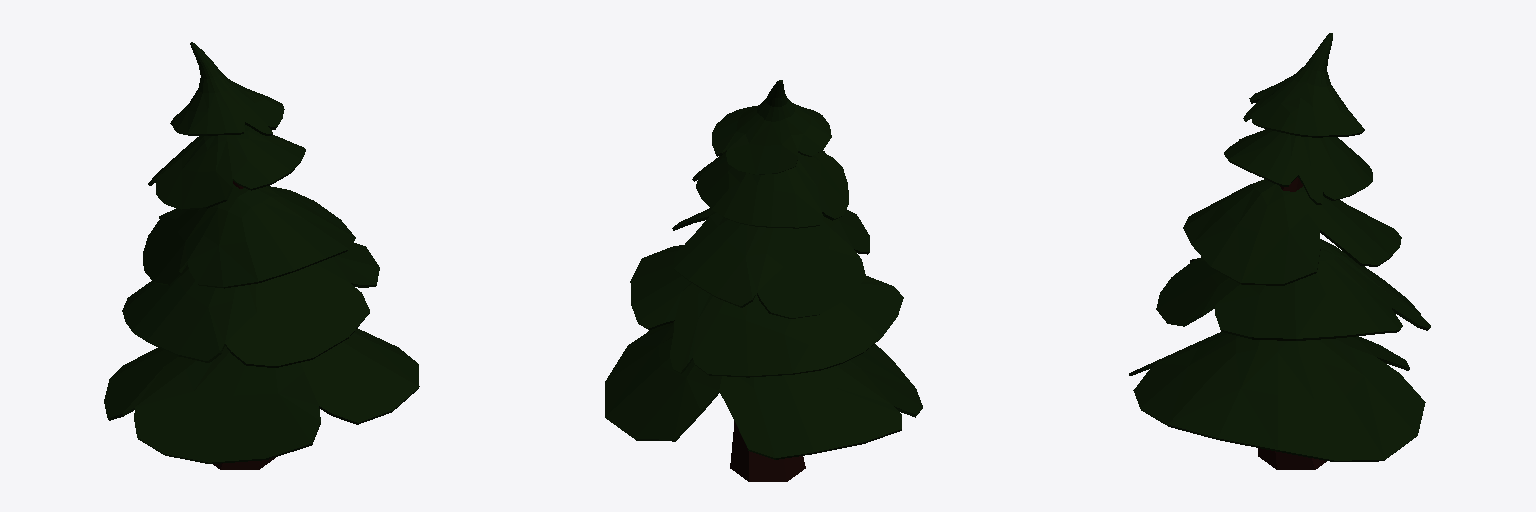
File: PineTree_1.obj
3 renders of one model, left to right at view 1: azimuth 30°, elevation 25°; view 2: azimuth 150°, elevation 25°; view 3: azimuth 270°, elevation 25°, orthographic.
Visible parts, largest first — view 1: PineTree_1_Cylinder.018; view 2: PineTree_1_Cylinder.018; view 3: PineTree_1_Cylinder.018.
Part boxes in pixels (bbox=[...]): PineTree_1_Cylinder.018: bbox=[104, 42, 419, 469]; PineTree_1_Cylinder.018: bbox=[605, 80, 922, 481]; PineTree_1_Cylinder.018: bbox=[1129, 33, 1430, 469].
Bounding box in the file's own units: 1.96 × 2.7 × 1.82.